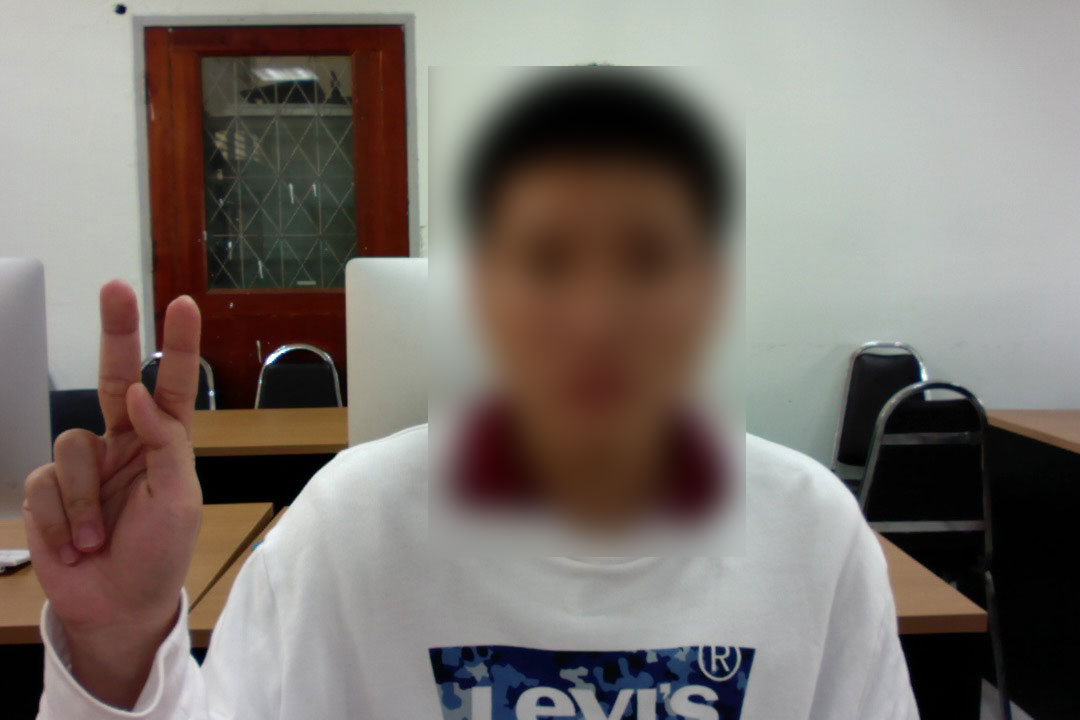ko: (20, 273, 224, 662)
